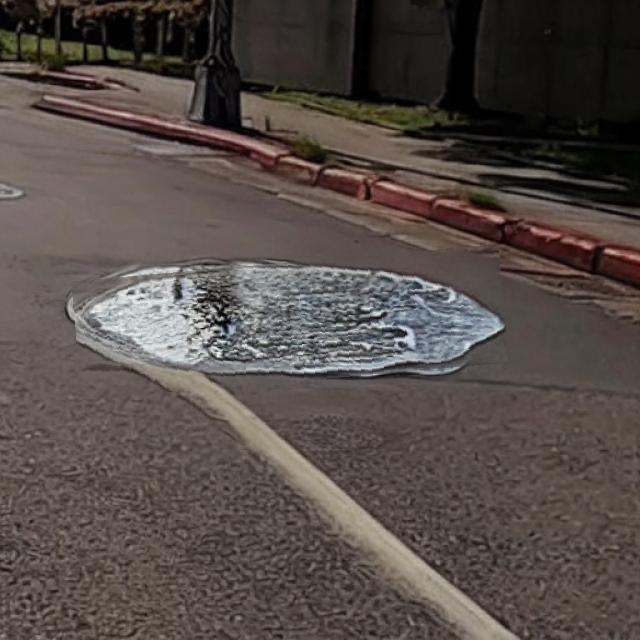puddle: (74, 254, 507, 391)
